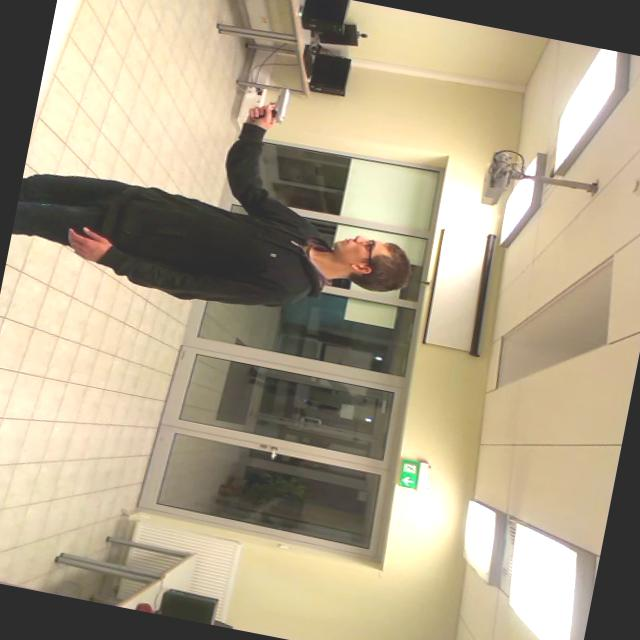handgun: (230, 69, 304, 136)
